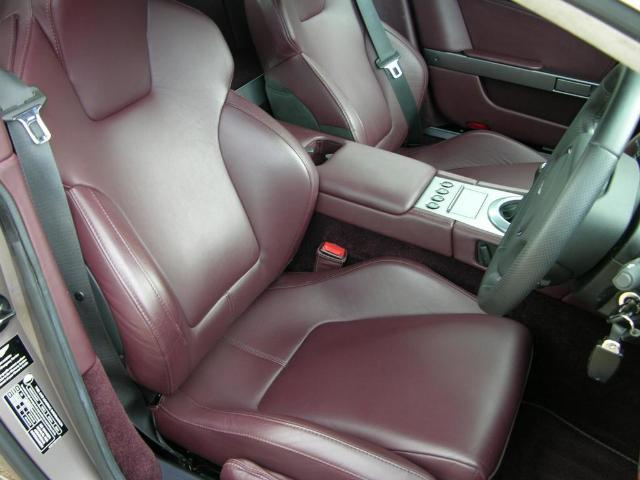Seatbelt: (0, 68, 184, 456), (356, 0, 424, 144)
